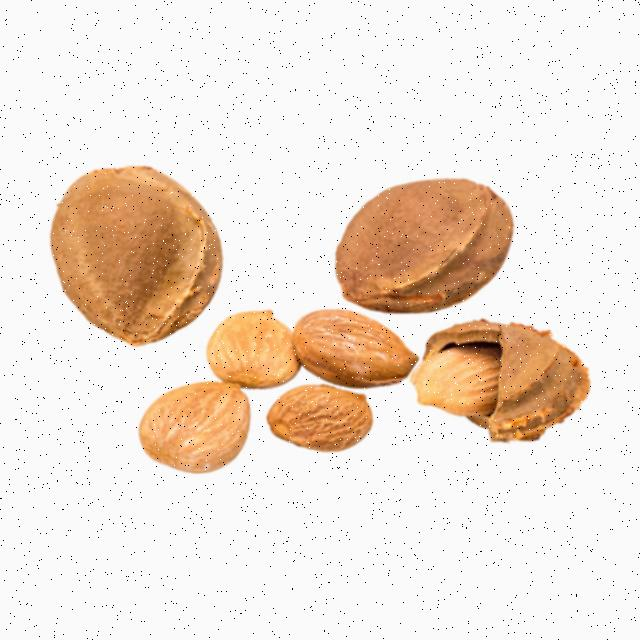cekirdek: (56, 148, 210, 350), (362, 165, 516, 310), (421, 324, 584, 449), (166, 396, 255, 463), (324, 308, 398, 382), (278, 392, 368, 451), (225, 318, 290, 382)
